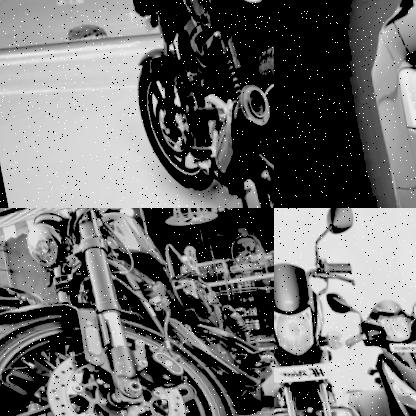bike: (0, 208, 274, 416), (96, 0, 274, 208), (274, 208, 411, 416), (318, 276, 416, 416)
car: (324, 0, 416, 208)
